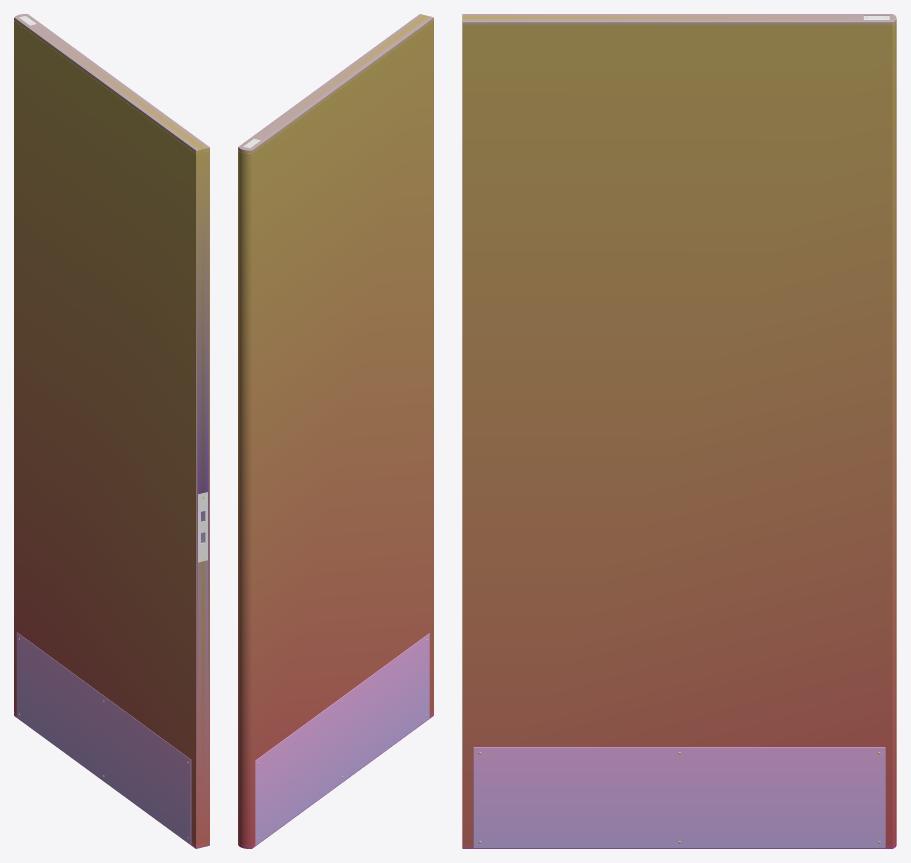
File: Kit_DoorLeaf_Steel_PaintedMetal_DA.fbx
3 views of the same model, side by side, from view 1: azimuth 30°, elevation 25°; view 2: azimuth 150°, elevation 25°; view 3: azimuth 270°, elevation 25° (orthographic). The views are drawn at different scales.
Visible parts, largest first — view 1: Kit_DoorLeaf_Steel_DA_LOD0; view 2: Kit_DoorLeaf_Steel_DA_LOD0; view 3: Kit_DoorLeaf_Steel_DA_LOD0.
Part boxes in pixels (<box>): Kit_DoorLeaf_Steel_DA_LOD0: <box>14,14,209,848</box>; Kit_DoorLeaf_Steel_DA_LOD0: <box>238,14,433,848</box>; Kit_DoorLeaf_Steel_DA_LOD0: <box>462,14,896,848</box>.
Size of what is drawn, in the model's own units: 0.0488 by 2.08 by 0.9902.
